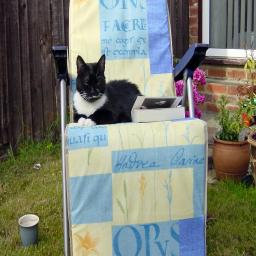catnose: (88, 87, 96, 95)
